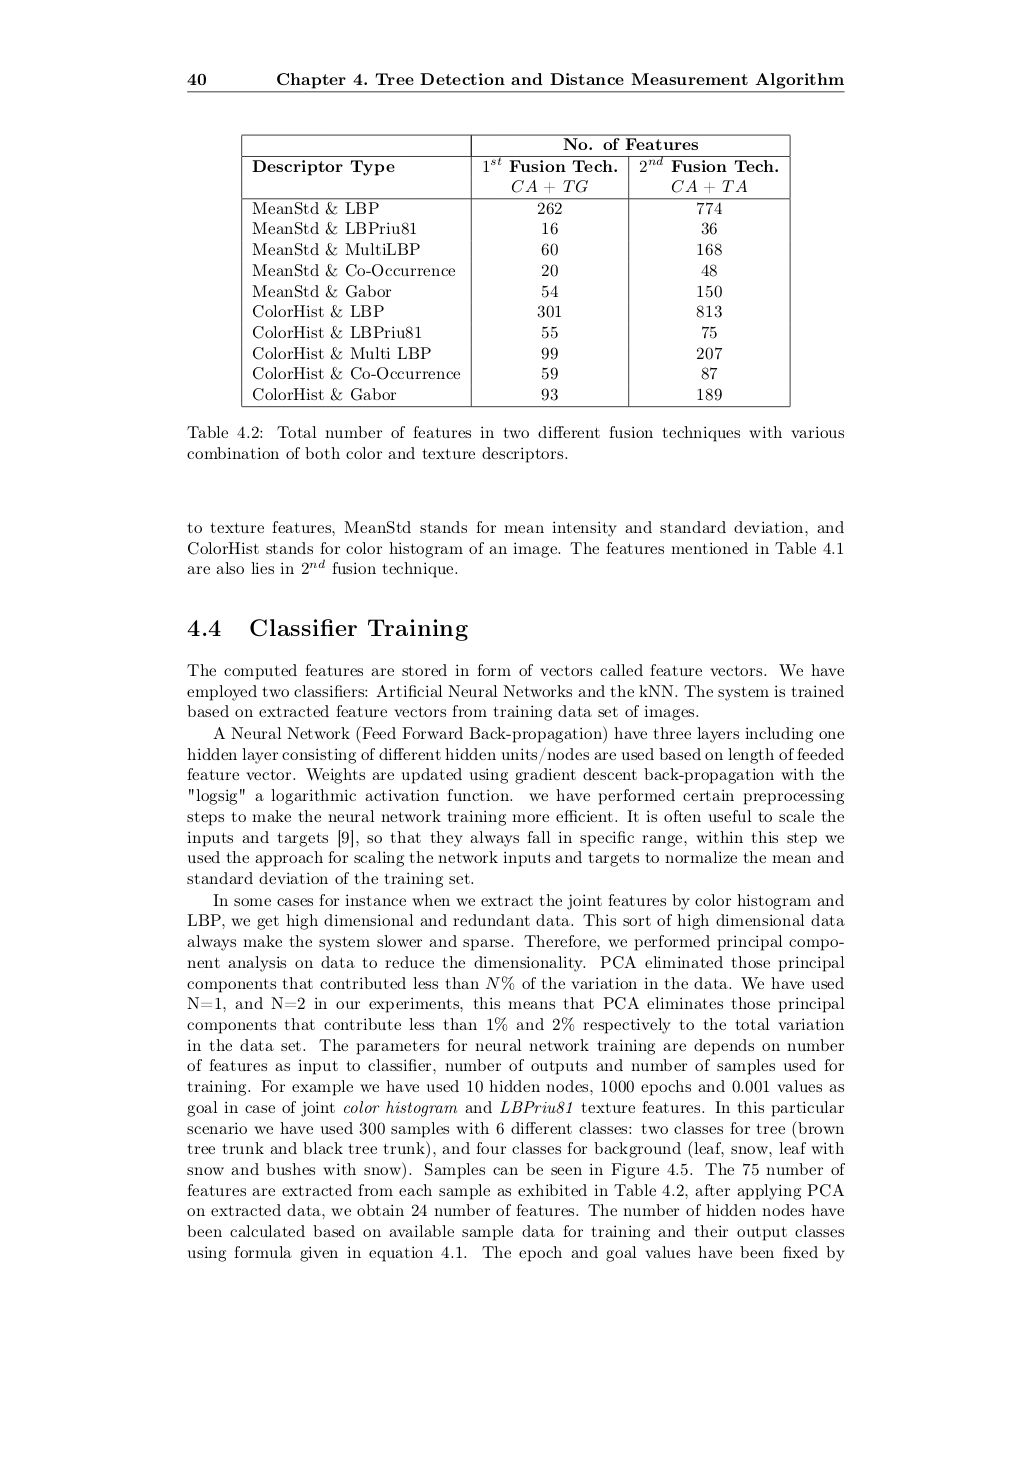Table: (241, 132, 790, 408)
